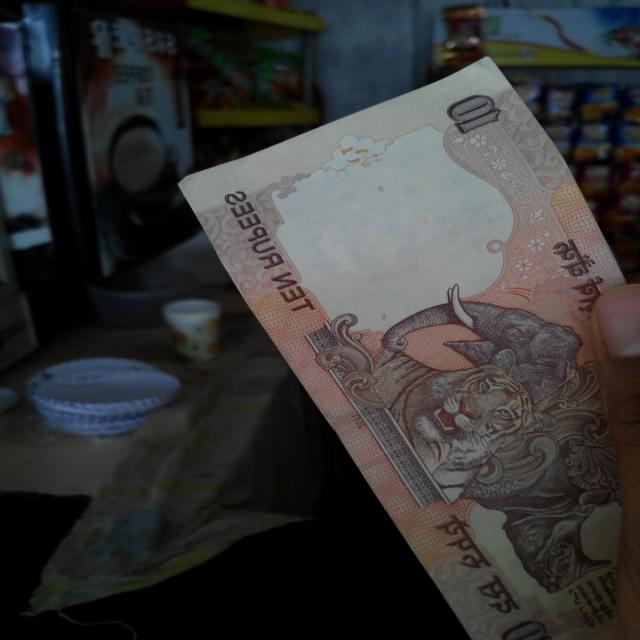10rs: (180, 53, 633, 640)
